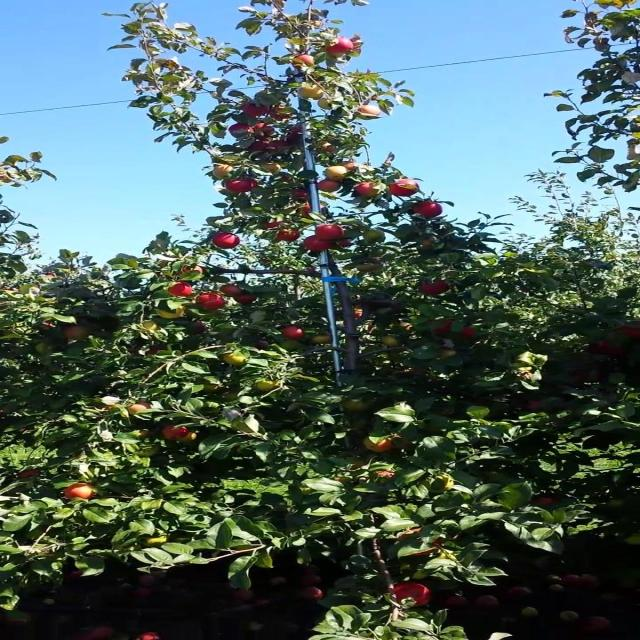apple: (397, 528, 443, 556), (390, 584, 434, 608), (63, 484, 100, 500), (362, 436, 396, 453), (596, 340, 628, 357), (390, 180, 420, 197), (419, 280, 450, 296), (426, 476, 455, 493), (326, 40, 356, 56), (305, 236, 334, 252), (298, 84, 327, 100), (596, 340, 626, 355), (355, 104, 384, 119), (163, 424, 190, 440), (227, 180, 260, 193), (319, 224, 345, 240), (212, 236, 242, 249), (227, 124, 252, 139), (269, 140, 292, 156), (198, 296, 228, 308), (433, 320, 455, 336), (241, 104, 268, 117), (419, 204, 444, 218), (212, 164, 235, 179), (63, 328, 91, 340), (255, 124, 277, 139), (355, 184, 380, 197), (298, 204, 325, 216), (326, 168, 350, 181), (269, 108, 293, 121), (227, 352, 249, 366), (291, 56, 316, 68), (170, 284, 194, 296), (163, 308, 187, 320), (255, 380, 279, 392), (127, 404, 155, 414), (20, 468, 43, 480), (319, 180, 341, 192), (284, 328, 306, 340), (220, 284, 242, 296), (348, 400, 370, 412), (291, 188, 311, 201), (298, 204, 318, 217), (276, 232, 299, 243), (383, 336, 404, 348), (362, 232, 384, 243), (284, 340, 304, 352), (262, 164, 283, 175), (269, 140, 292, 150), (291, 128, 306, 143), (191, 320, 208, 333), (618, 328, 638, 339), (262, 220, 284, 230), (525, 400, 544, 411), (376, 472, 398, 481), (532, 500, 558, 507), (184, 432, 199, 444), (312, 336, 334, 344), (234, 296, 256, 304), (248, 144, 268, 152), (362, 264, 382, 272), (319, 144, 336, 153), (141, 324, 160, 332), (255, 340, 270, 350), (180, 432, 197, 440), (461, 328, 476, 337), (319, 100, 334, 109), (340, 240, 356, 248), (148, 348, 164, 356), (340, 164, 356, 171), (184, 268, 206, 273), (355, 308, 363, 320), (426, 240, 434, 247), (42, 324, 55, 328)
